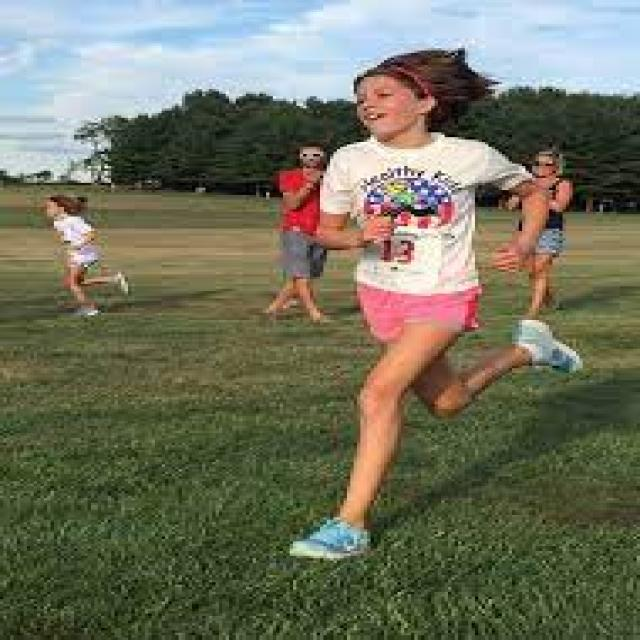Person: (286, 49, 583, 561), (262, 145, 332, 320), (506, 149, 574, 315), (47, 196, 131, 316)
